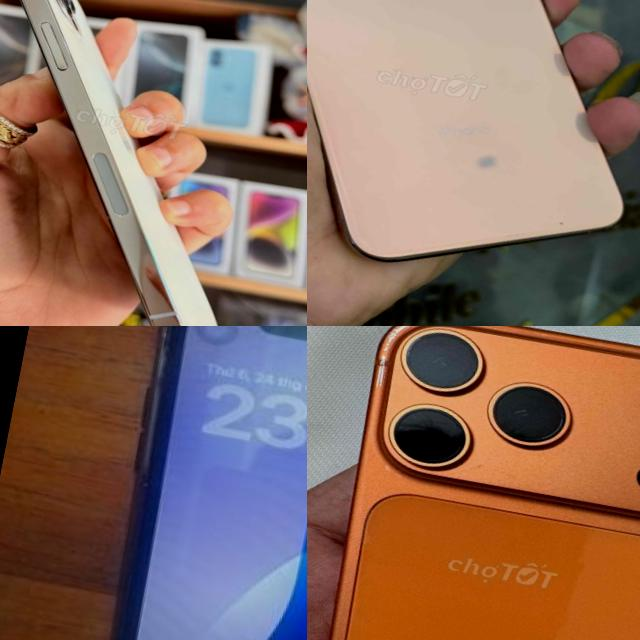gen_11: (61, 326, 307, 640)
gen_12_13: (0, 0, 298, 326)
gen_17: (307, 326, 640, 640)
gen_x_xs: (307, 0, 640, 321)
scratch: (360, 326, 434, 403), (550, 206, 577, 238)
